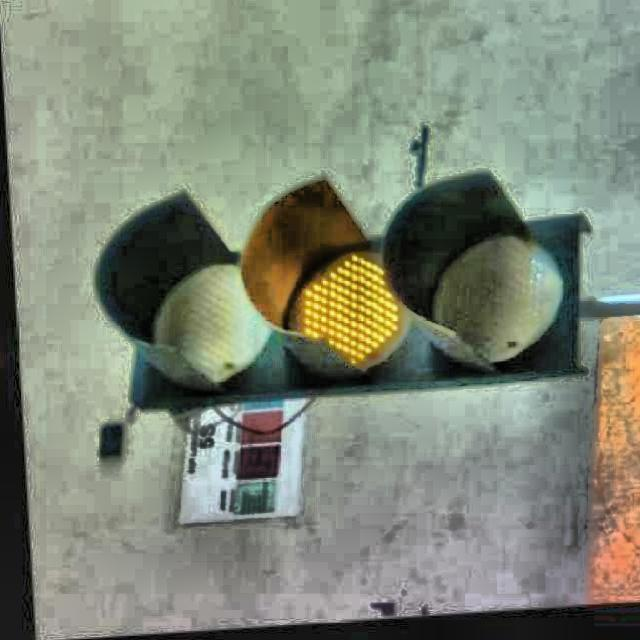yellow: (106, 218, 584, 381)
